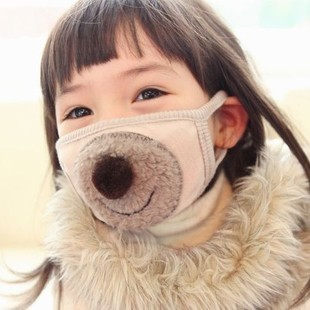face_mask: (55, 60, 210, 232)
